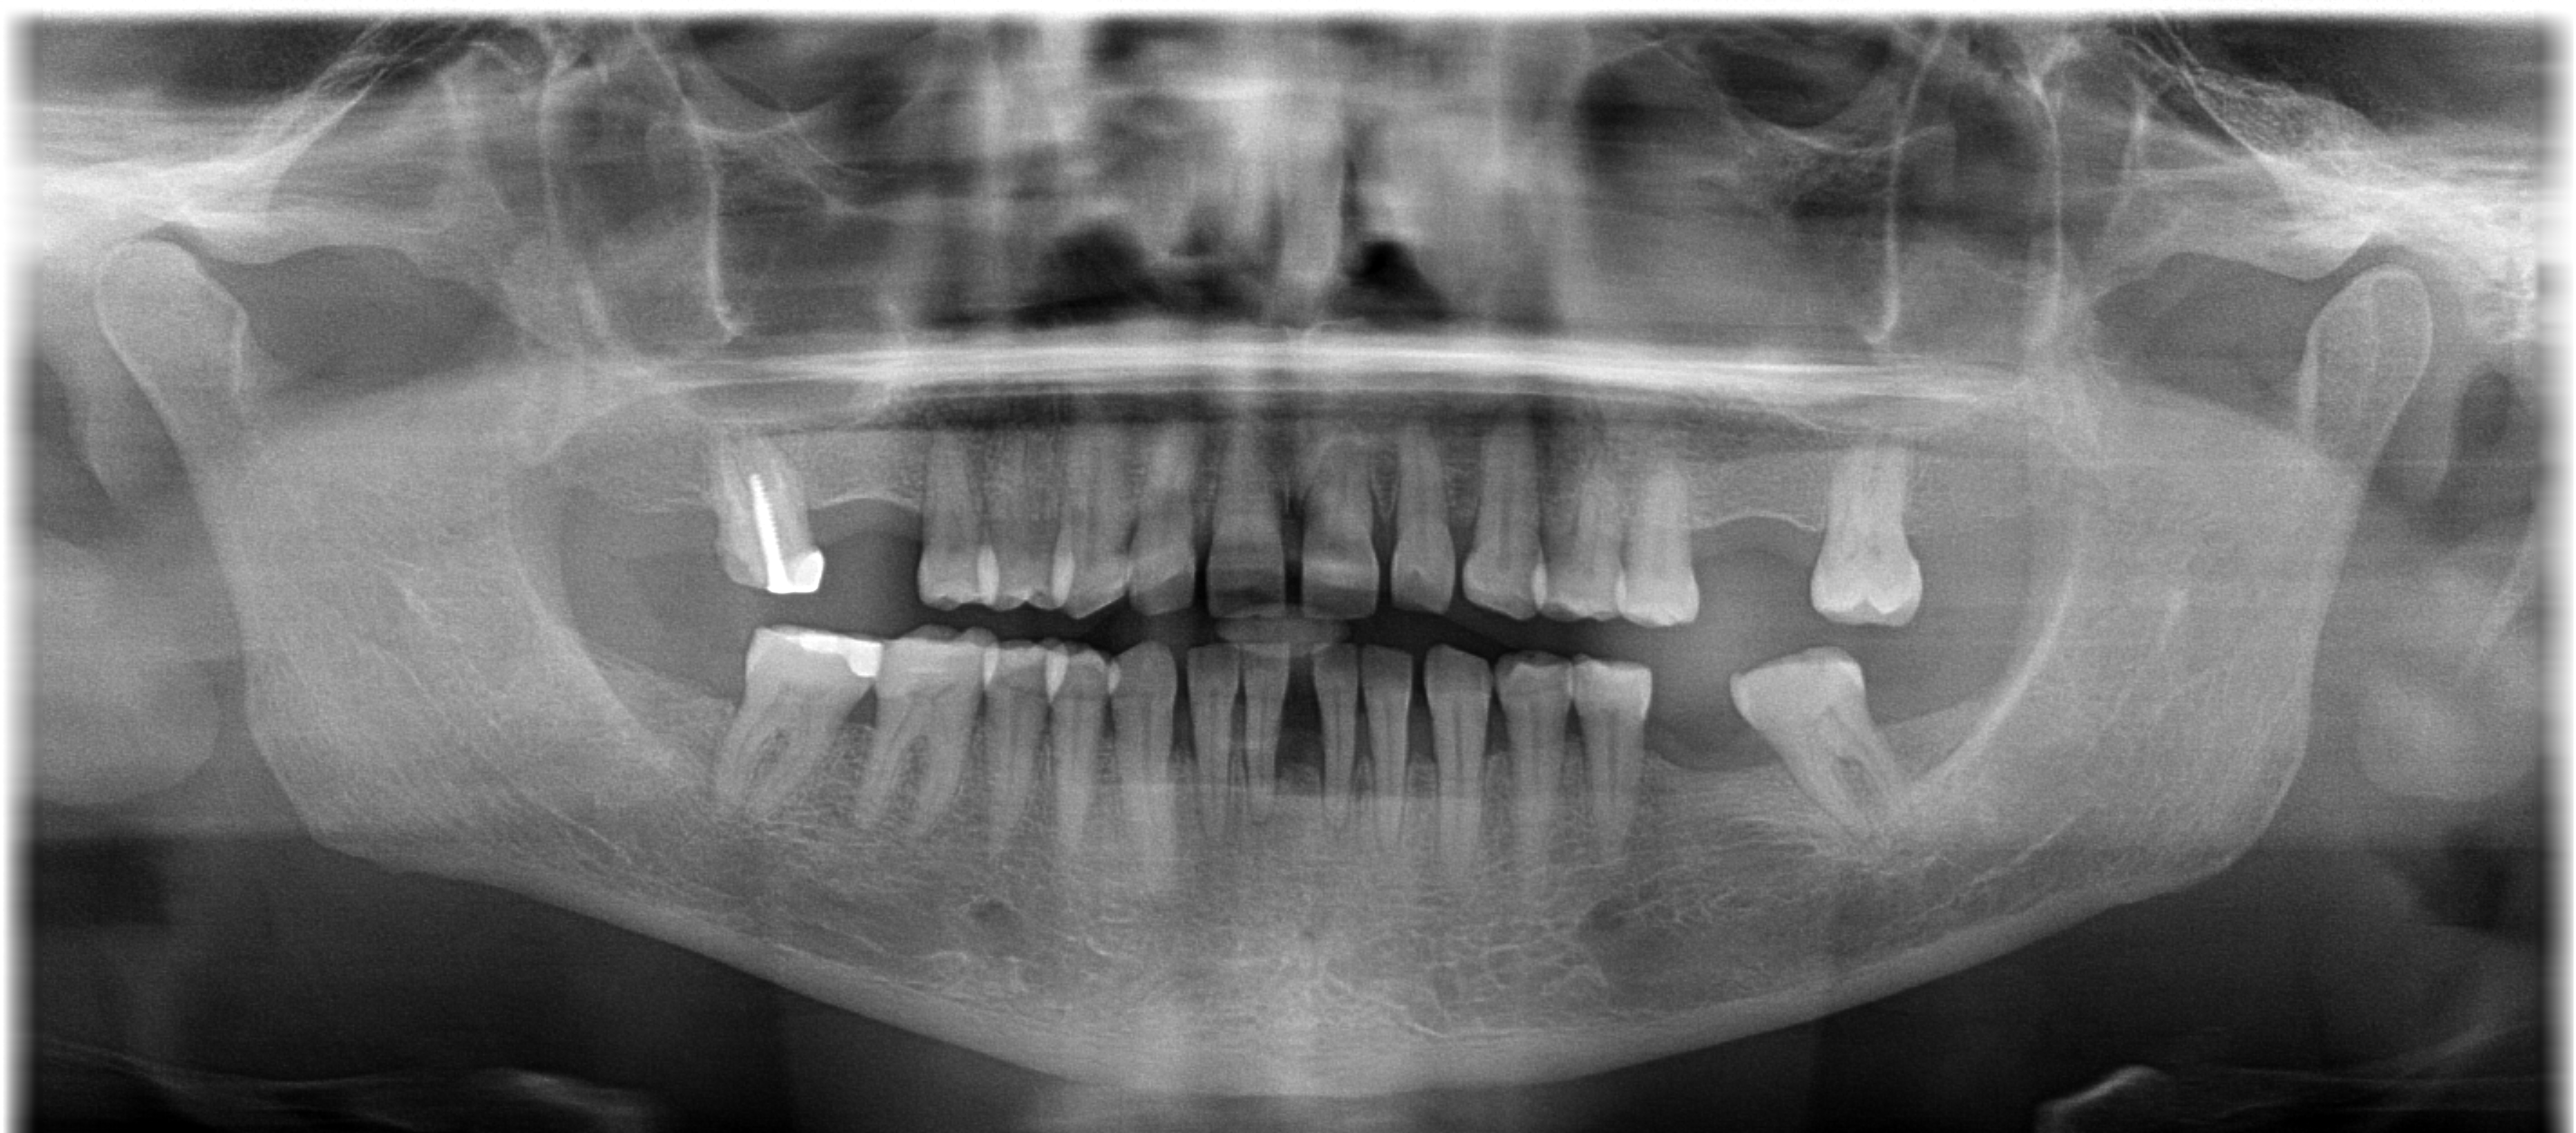diastema: (1352, 440, 1413, 626), (1158, 634, 1219, 819), (1263, 433, 1321, 621), (1276, 632, 1329, 826), (1403, 644, 1449, 854), (1176, 429, 1229, 612)
zona_dentula: (1626, 650, 1796, 859), (1682, 420, 1824, 639), (803, 422, 935, 621)
